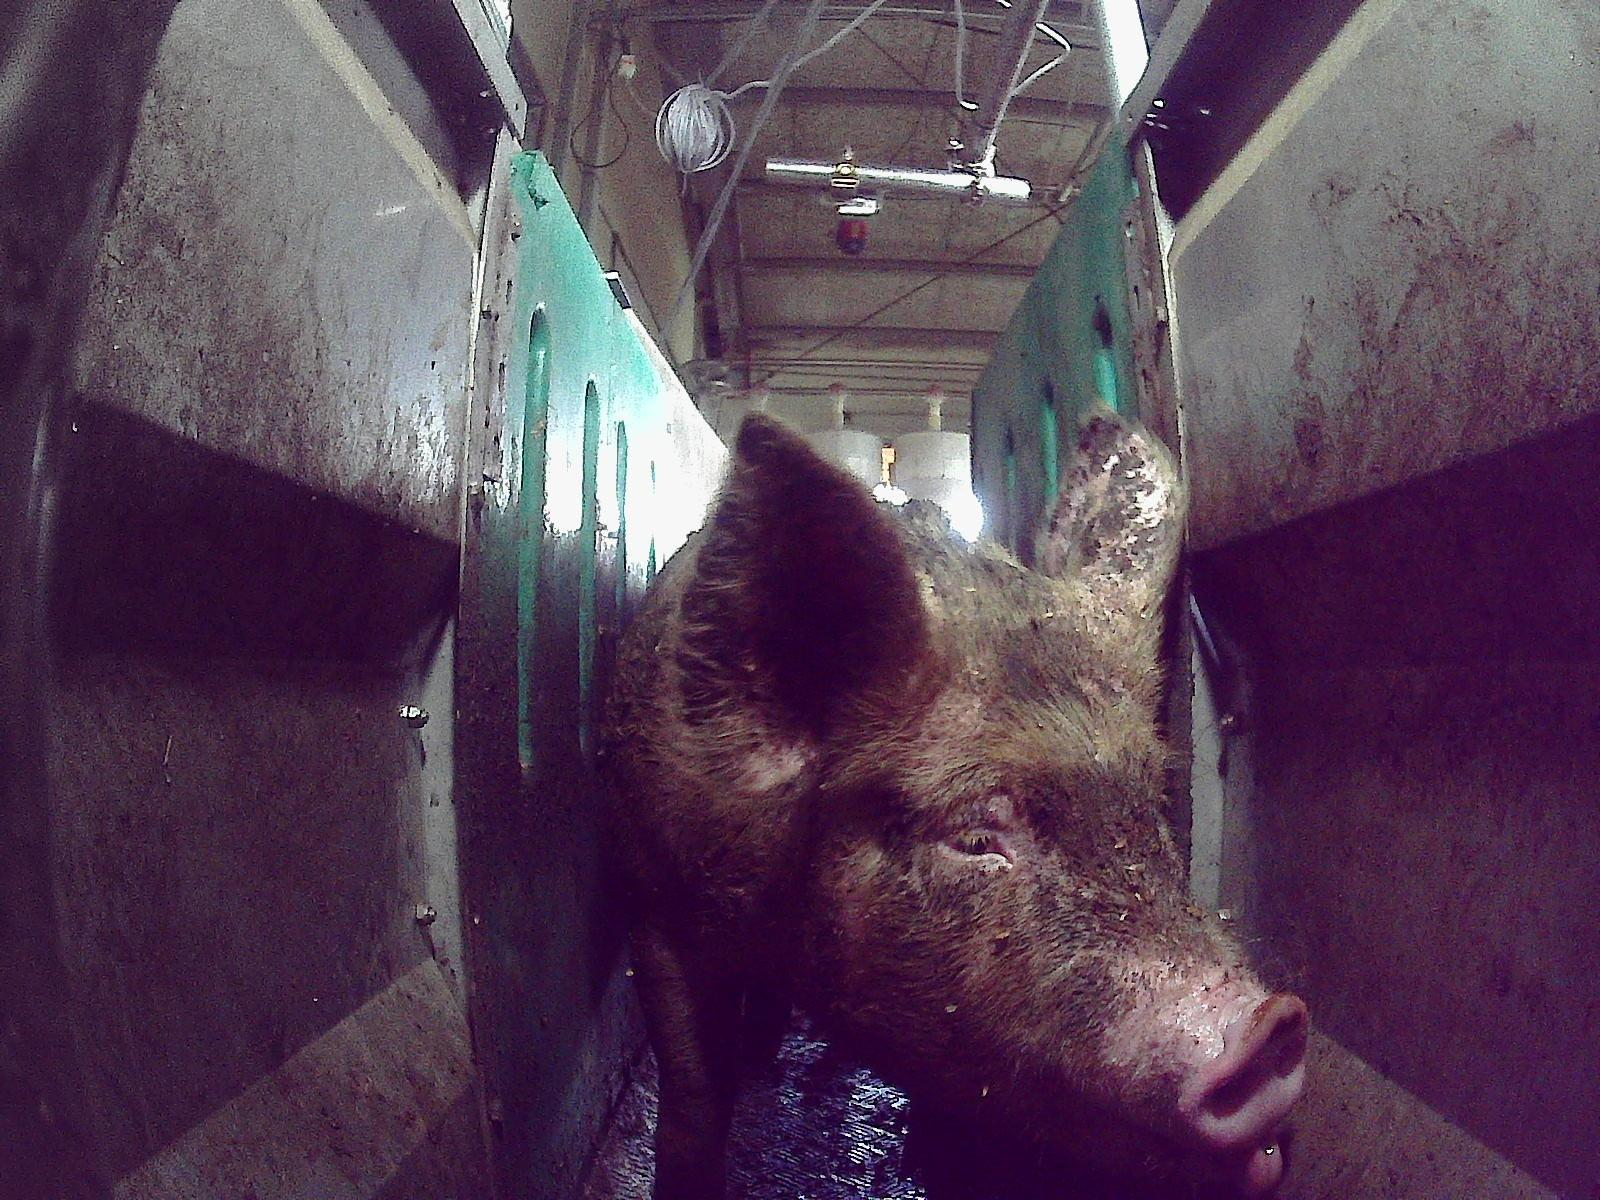Face: (758, 512, 1311, 1199)
